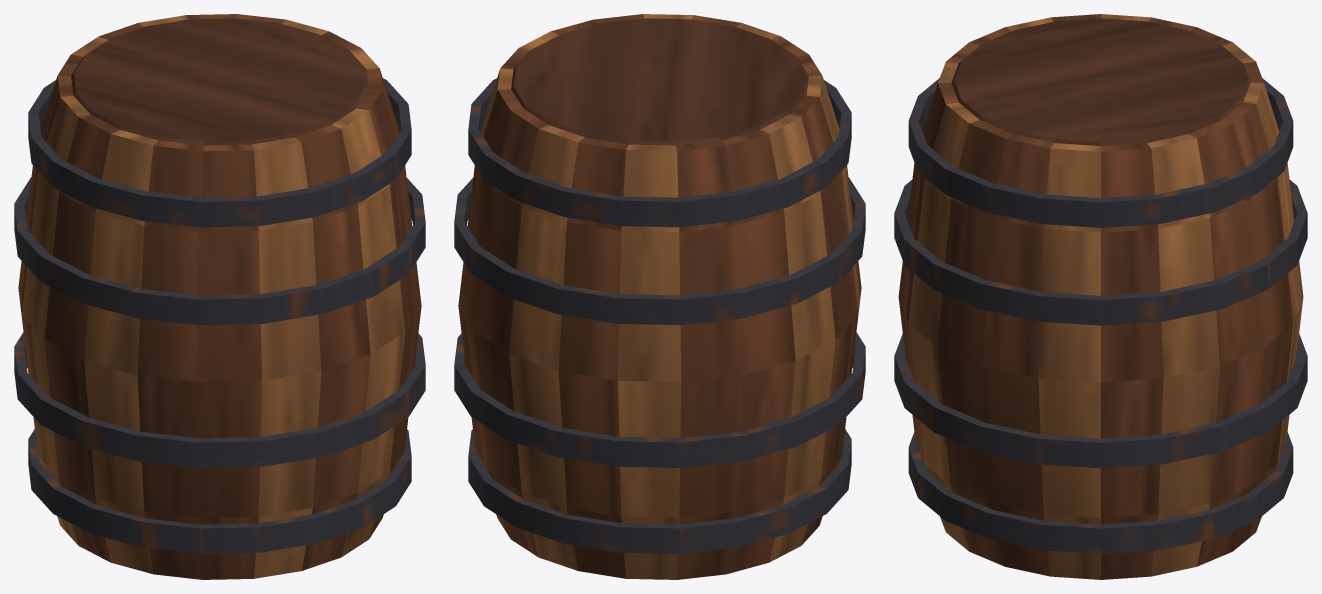
File: SM_Barrel.obj
The picture shows the model from 3 angles, left to right: view 1: azimuth 30°, elevation 25°; view 2: azimuth 150°, elevation 25°; view 3: azimuth 270°, elevation 25°; orthographic projection.
Parts seen in each view (by area): view 1: SM_Barrel; view 2: SM_Barrel; view 3: SM_Barrel.
Boxes of the visible parts, box(x1,y1,x2,y2) form: SM_Barrel: box(14, 14, 425, 579); SM_Barrel: box(454, 14, 865, 579); SM_Barrel: box(894, 14, 1307, 579).
Size of the model in its own units: 0.7346 by 0.845 by 0.7346.
Materials: 1 (1 with a texture image).
